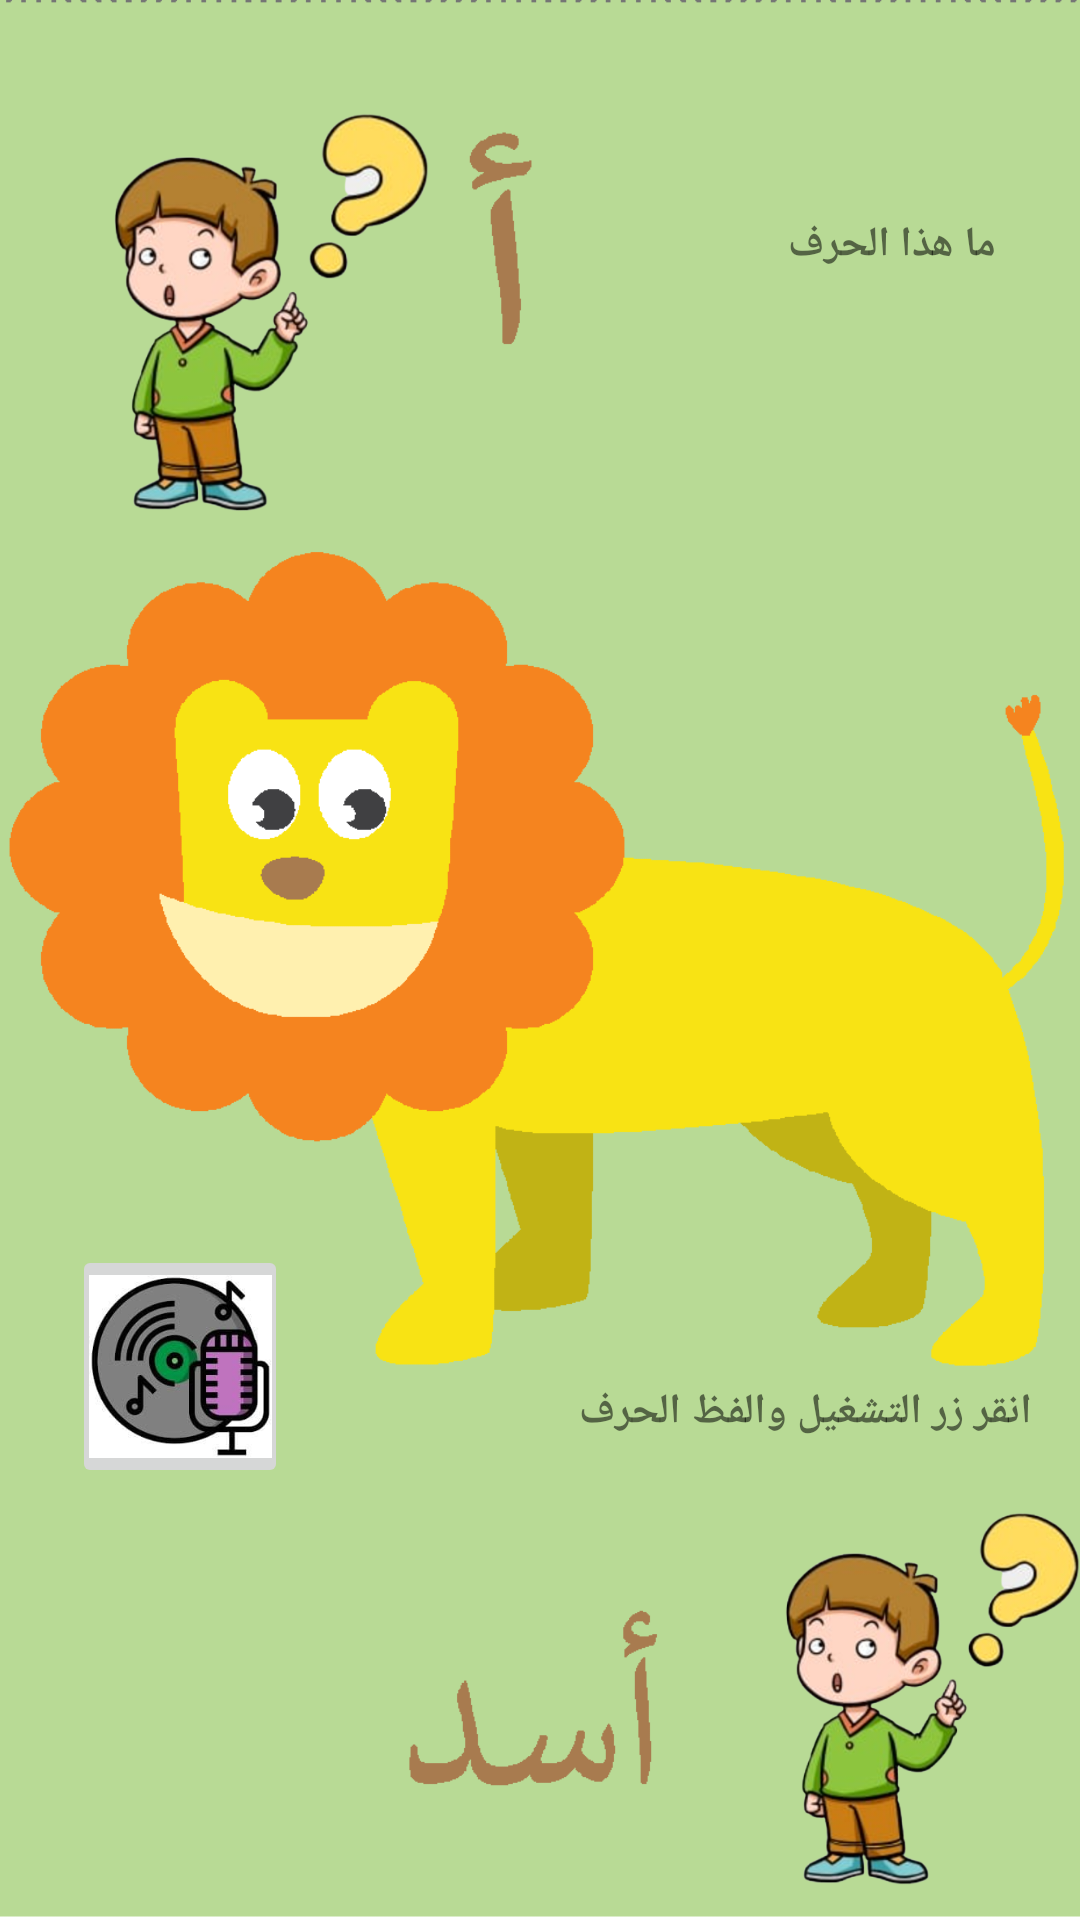

Named icons in this screenshot (1080 x 1920) and their centers, point (x, y):
record: point (180, 1366)
